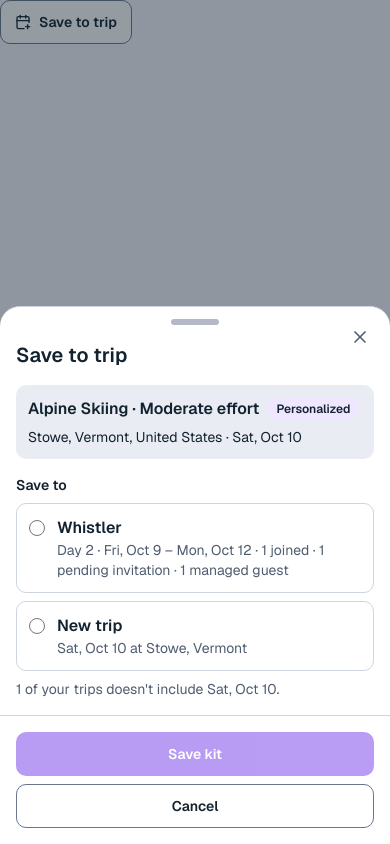
Test: Save to trip › saves the outfit as it is when saved, including a comfort check that finished after opening
Click the radio button labelled "Whistler".
click(37, 528)  # box x1=29 y1=520 x2=45 y2=536
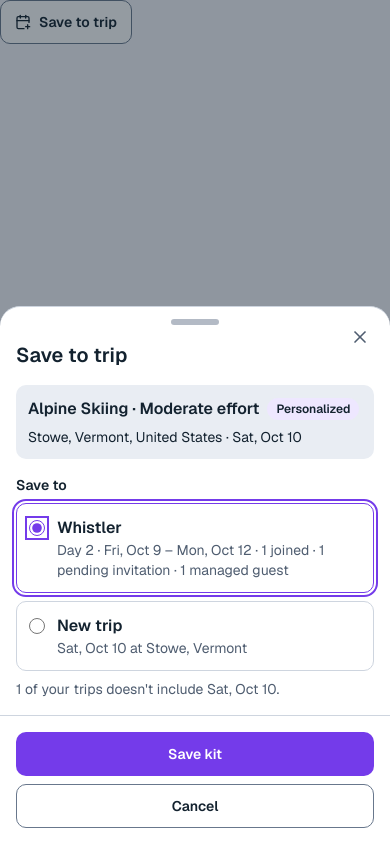
Click the button "Save kit".
click(195, 754)  # box x1=16 y1=732 x2=374 y2=776
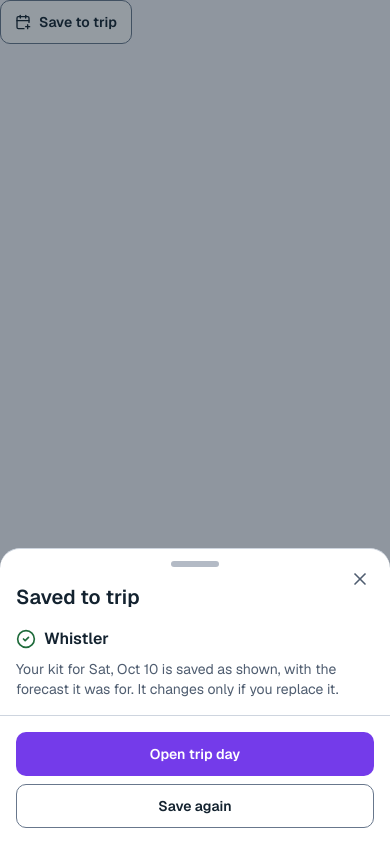
Check: the link "Open trip day" is shown, box x1=16 y1=732 x2=374 y2=776
